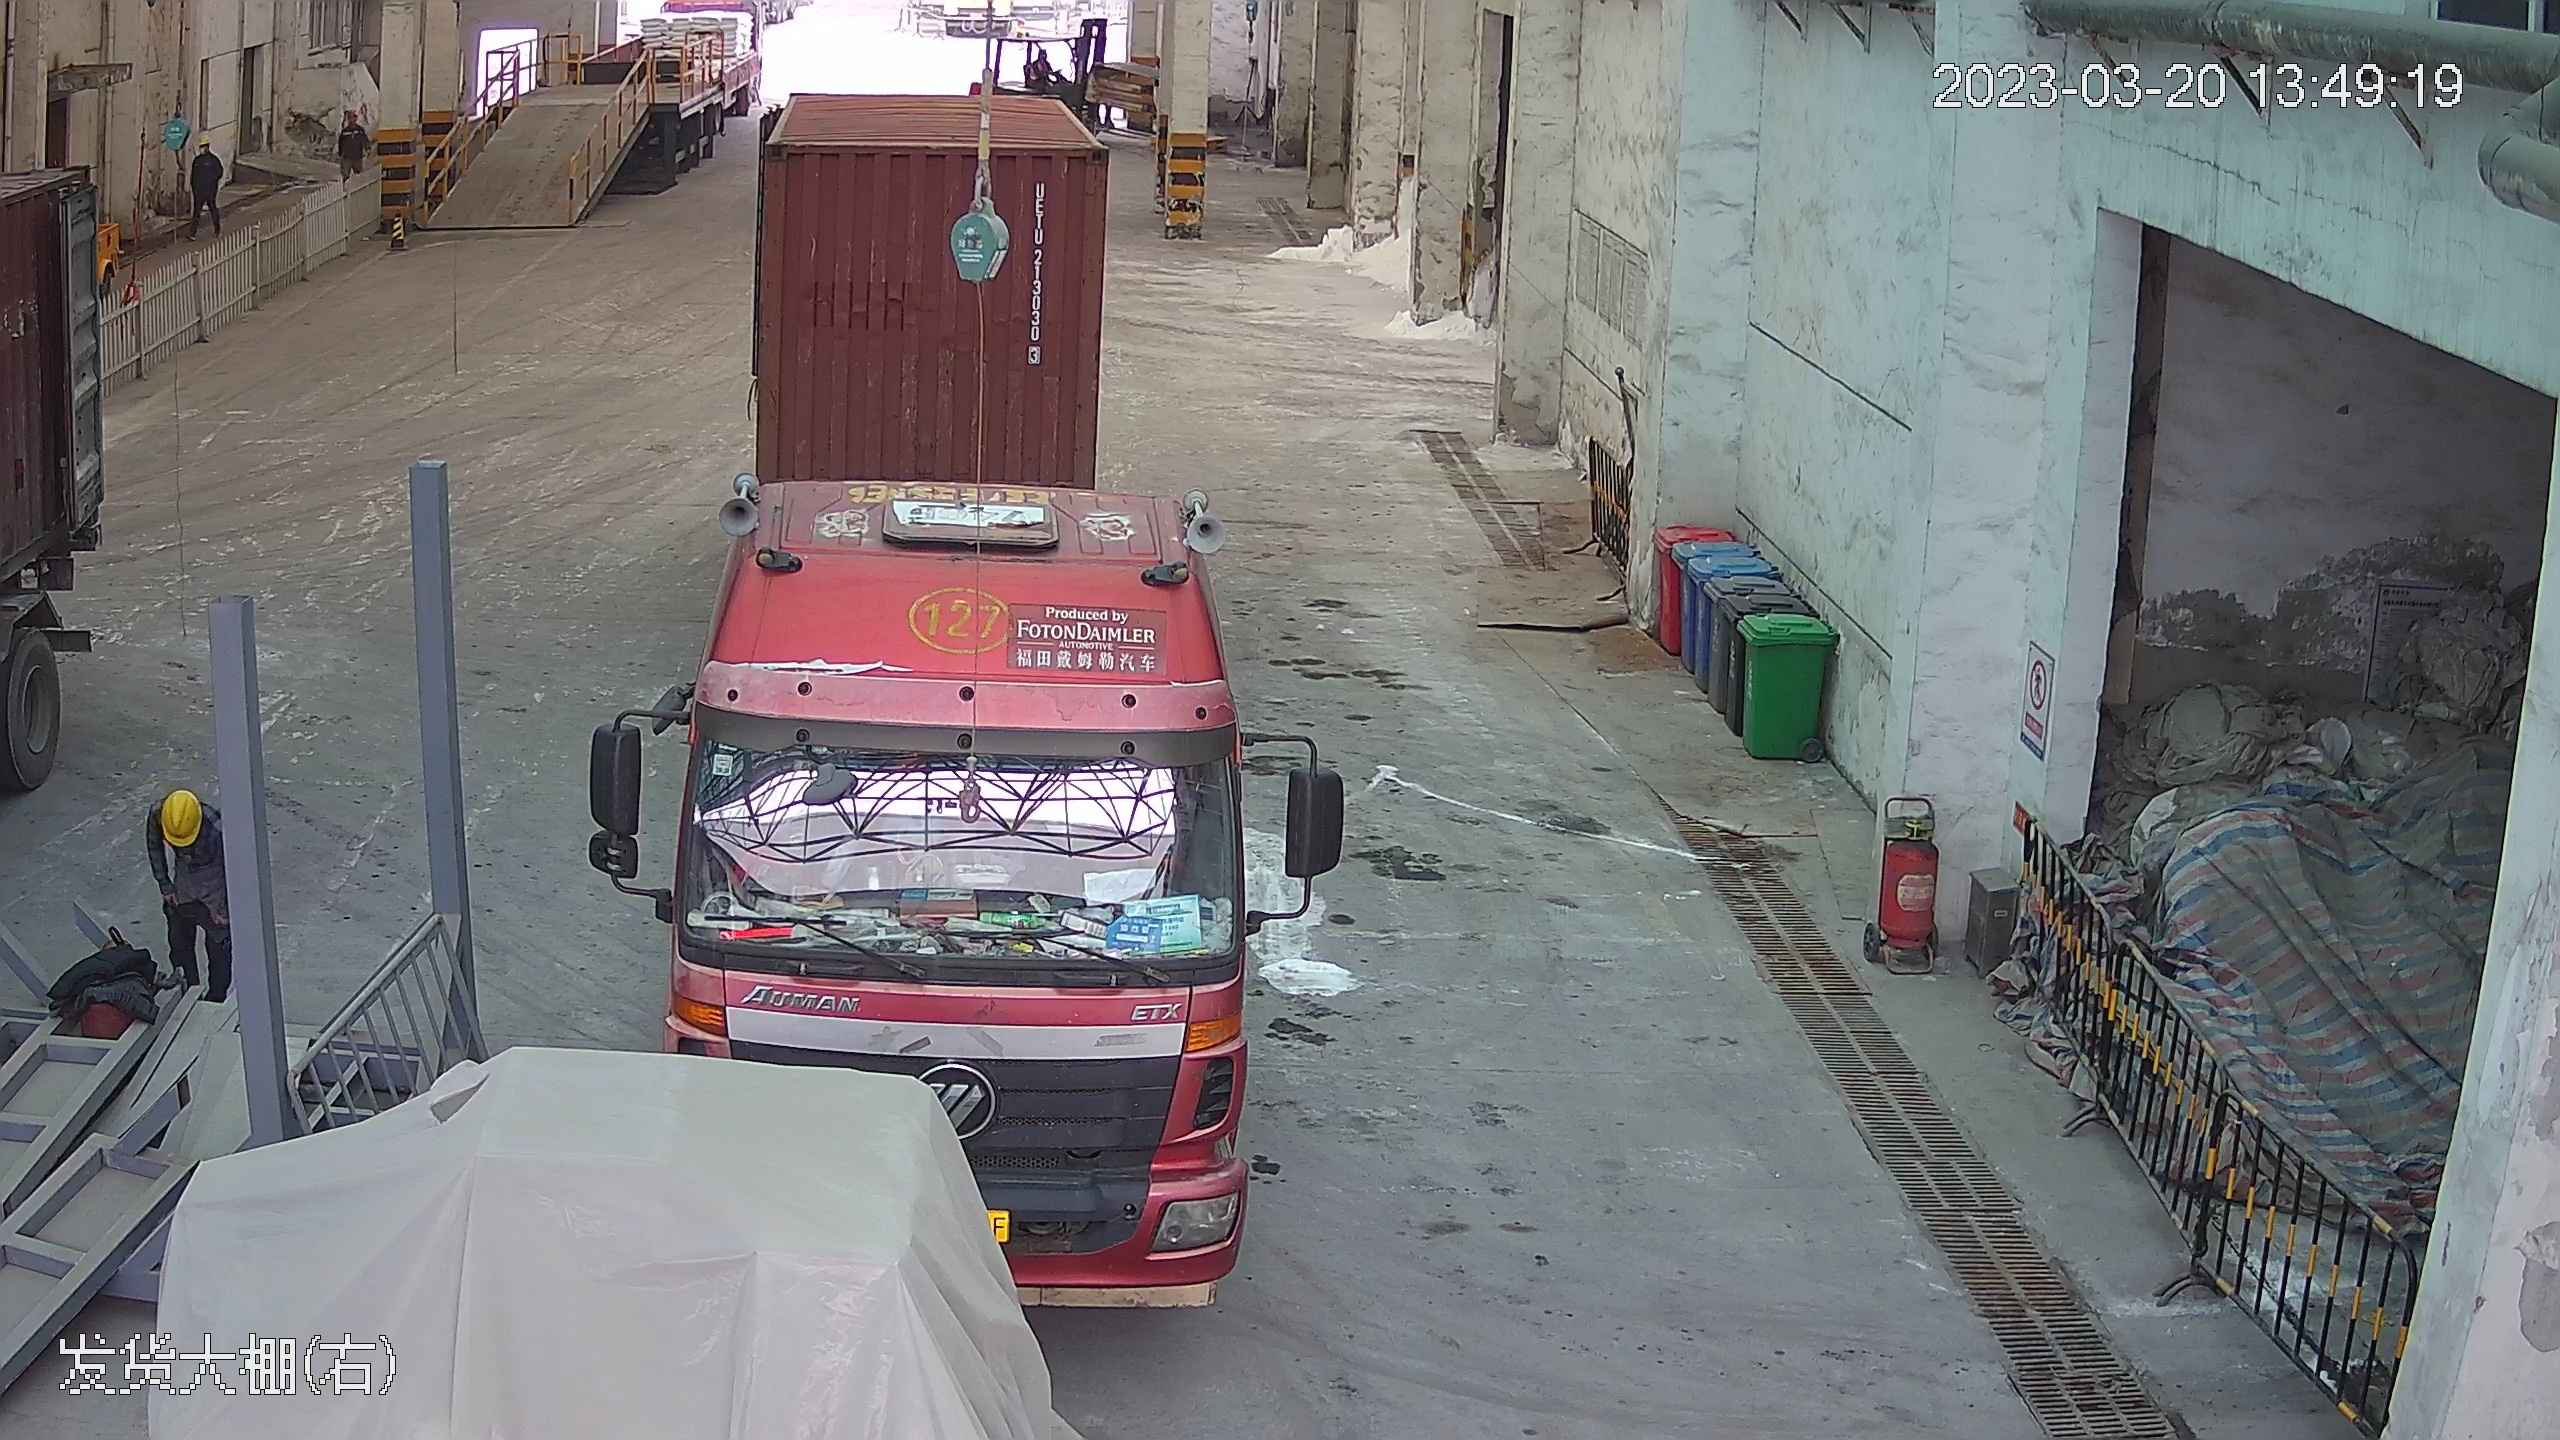head: (149, 783, 233, 1002), (151, 787, 225, 867), (187, 129, 220, 164), (340, 108, 366, 141)
helmet: (156, 785, 204, 846), (197, 134, 211, 145), (346, 108, 359, 118)
people: (146, 787, 232, 1006), (182, 127, 224, 234), (336, 108, 366, 179)
truck: (632, 22, 1272, 1306)
